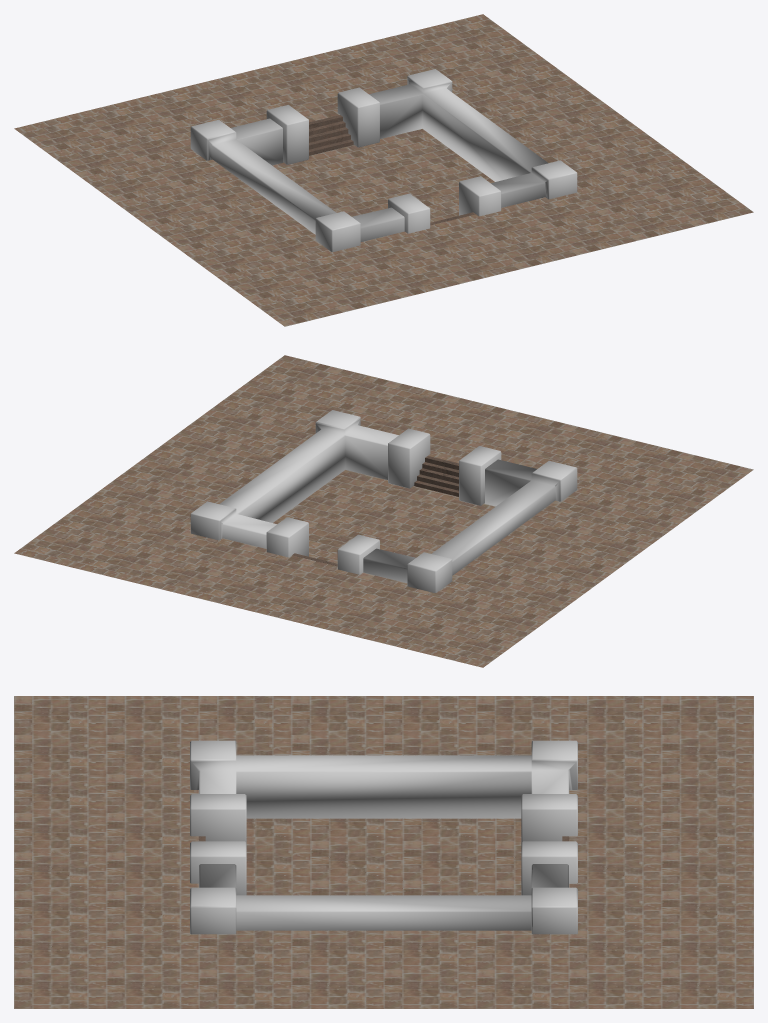
File: BigRoomLayout.gltf
3 renders of one model, top to bottom at view 1: azimuth 30°, elevation 25°; view 2: azimuth 150°, elevation 25°; view 3: azimuth 270°, elevation 25°, orthographic. The views are drawn at different scales.
Parts seen in each view (by area): view 1: UpperGround, Border, LowerGround, Stairs; view 2: UpperGround, Border, LowerGround, Stairs; view 3: UpperGround, Border, LowerGround.
Part boxes in pixels (x1,y1,x2,y2): UpperGround: (14, 14, 753, 326); Border: (190, 69, 577, 251); LowerGround: (272, 129, 494, 222); Stairs: (309, 115, 475, 225); UpperGround: (14, 355, 753, 667); Border: (190, 410, 577, 592); LowerGround: (273, 470, 495, 563); Stairs: (292, 456, 458, 566); UpperGround: (14, 696, 753, 1008); Border: (190, 740, 577, 934); LowerGround: (246, 818, 521, 895).
Size of the model in its own units: 24 by 2.12 by 24.
